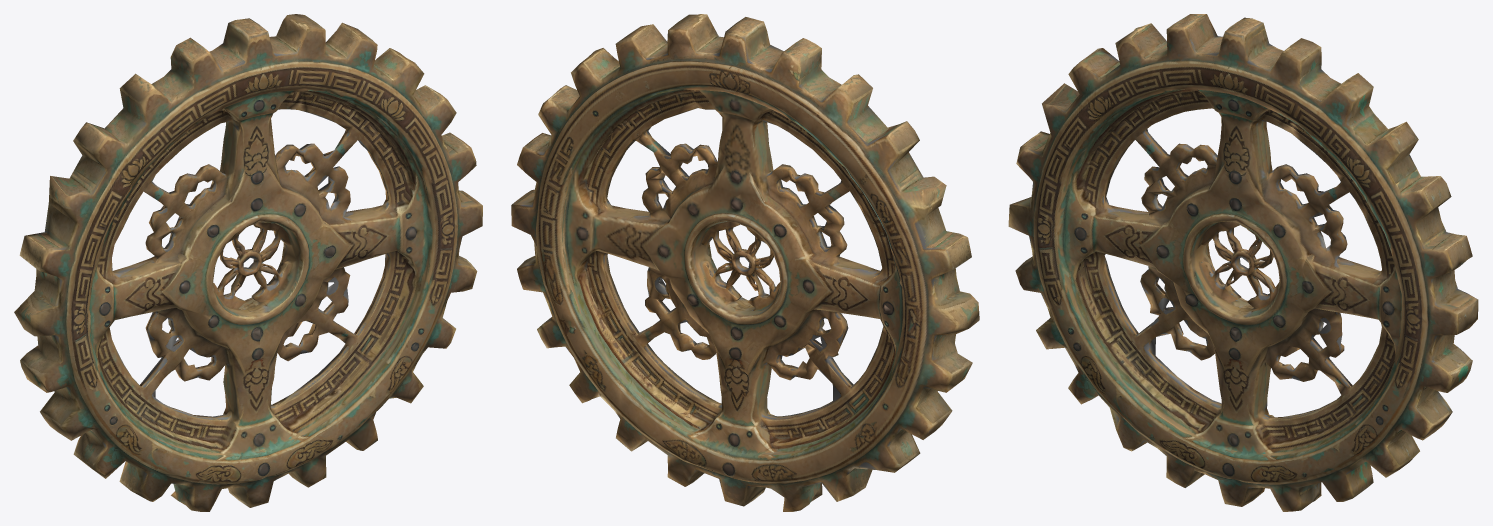
Rendered from PR_BronzeGear_03.fbx.
3 renders of one model, left to right at view 1: azimuth 30°, elevation 25°; view 2: azimuth 150°, elevation 25°; view 3: azimuth 330°, elevation 25°, orthographic.
Parts seen in each view (by area): view 1: texture_mapping; view 2: texture_mapping; view 3: texture_mapping.
Part boxes in pixels (x1,y1,x2,y2): texture_mapping: (14, 14, 482, 511); texture_mapping: (511, 14, 979, 511); texture_mapping: (1008, 14, 1478, 511).
Size of the model in its own units: 1 by 0.1239 by 1.
1 material, 1 textured.
